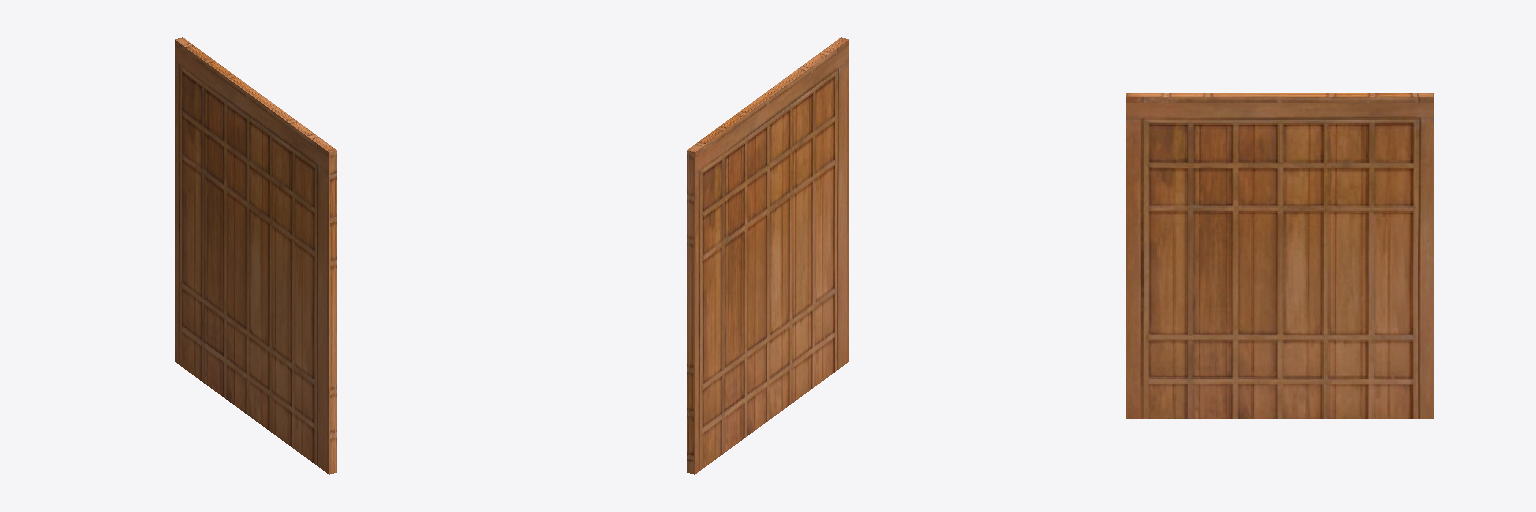
The picture shows the model from 3 angles: view 1: azimuth 30°, elevation 25°; view 2: azimuth 150°, elevation 25°; view 3: azimuth 270°, elevation 25°; orthographic projection.
Parts seen in each view (by area): view 1: pasted__pasted__pCube7 pasted__group122 group123; view 2: pasted__pasted__pCube7 pasted__group122 group123; view 3: pasted__pasted__pCube7 pasted__group122 group123.
Part boxes in pixels (x1,y1,x2,y2): pasted__pasted__pCube7 pasted__group122 group123: (175, 37, 336, 474); pasted__pasted__pCube7 pasted__group122 group123: (687, 37, 848, 474); pasted__pasted__pCube7 pasted__group122 group123: (1126, 93, 1433, 418).
Size of the model in its own units: 0.0922 by 3.41 by 2.96.
Materials: 1 (1 with a texture image).